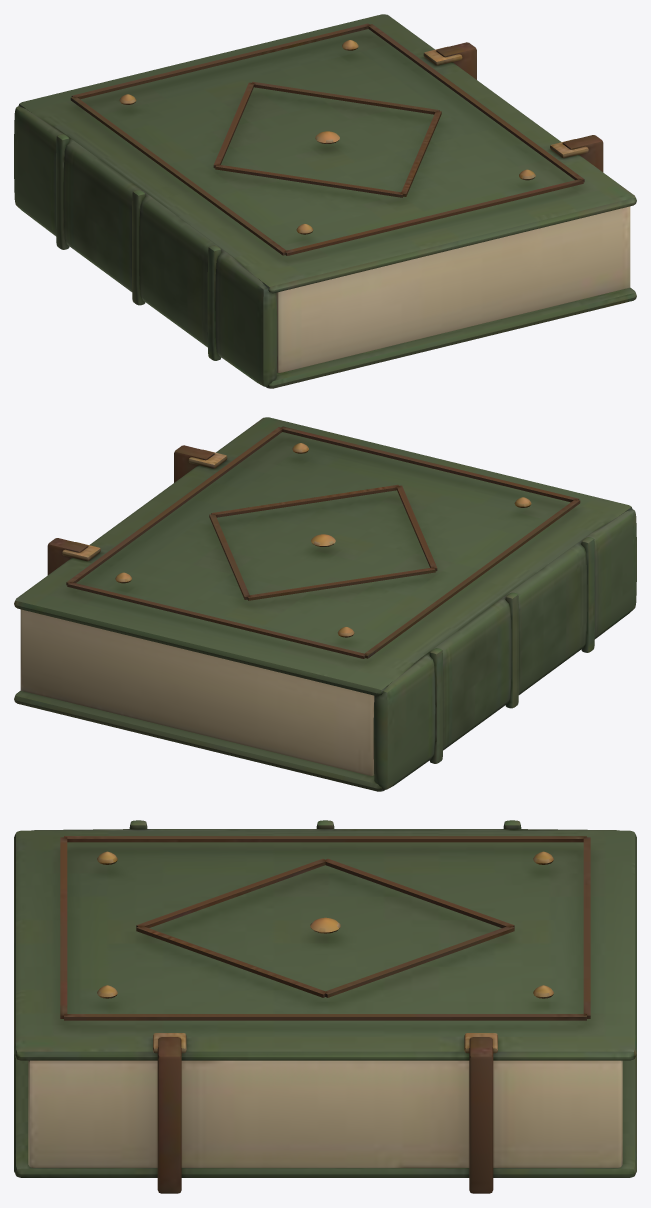
The model's file is herbal.glb.
The picture shows the model from 3 angles, top to bottom: view 1: azimuth 30°, elevation 25°; view 2: azimuth 150°, elevation 25°; view 3: azimuth 270°, elevation 25°; orthographic projection. The views are drawn at different scales.
Parts seen in each view (by area): view 1: herbal; view 2: herbal; view 3: herbal.
Part boxes in pixels (bbox=[...]): herbal: bbox=[14, 14, 636, 388]; herbal: bbox=[14, 417, 636, 791]; herbal: bbox=[14, 820, 636, 1193].
Bounding box in the file's own units: 0.239 × 0.0714 × 0.26.
Materials: 1 (1 with a texture image).
